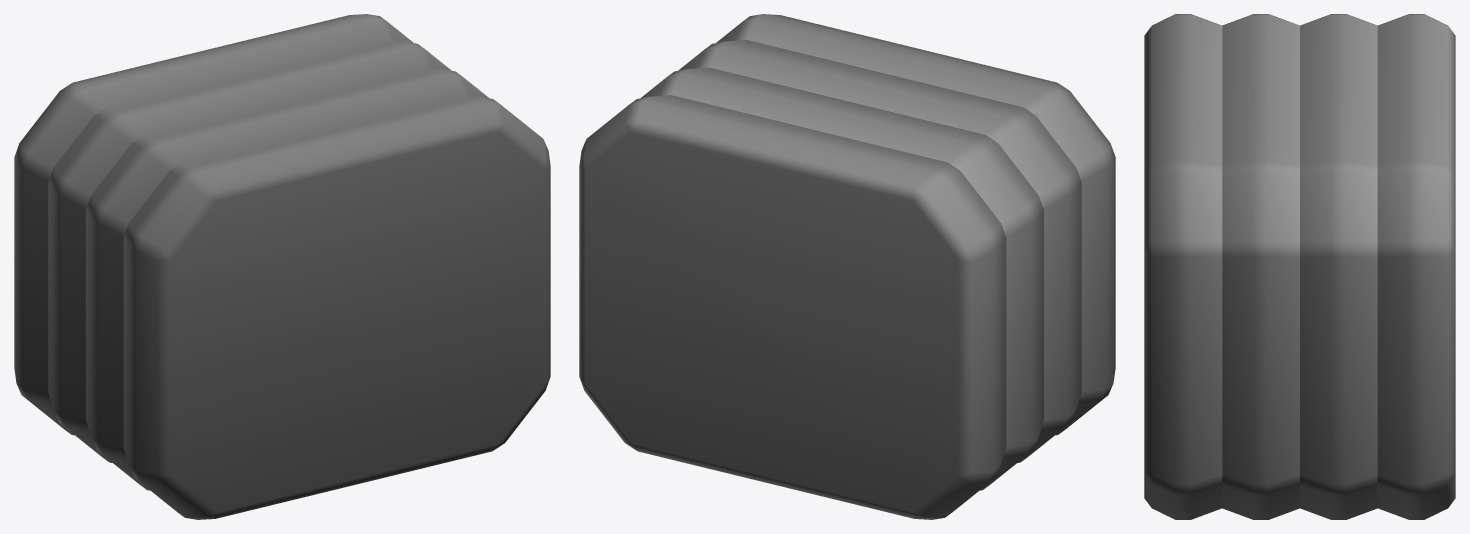
File: arctic_base_bridge_001.fbx
3 views of the same model, side by side, from view 1: azimuth 30°, elevation 25°; view 2: azimuth 150°, elevation 25°; view 3: azimuth 270°, elevation 25° (orthographic). The views are drawn at different scales.
Visible parts, largest first — view 1: arctic_base_bridge_001; view 2: arctic_base_bridge_001; view 3: arctic_base_bridge_001.
Part boxes in pixels (box(x1,y1,x2,y2)): arctic_base_bridge_001: box(14, 14, 550, 519); arctic_base_bridge_001: box(579, 14, 1115, 519); arctic_base_bridge_001: box(1144, 14, 1455, 519).
Bounding box in the file's own units: 531 × 337 × 428.
